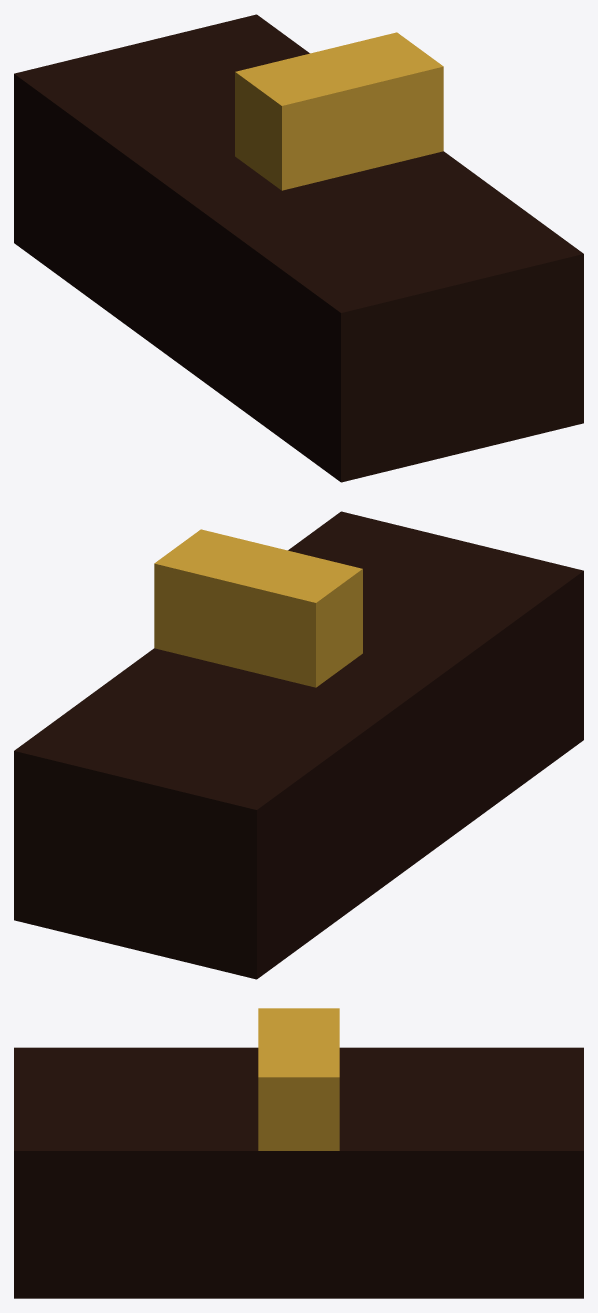
Rendered from leather_epic_boot_foot_L_lod1.glb.
The picture shows the model from 3 angles, top to bottom: view 1: azimuth 30°, elevation 25°; view 2: azimuth 150°, elevation 25°; view 3: azimuth 270°, elevation 25°; orthographic projection. The views are drawn at different scales.
Parts seen in each view (by area): view 1: leather_epic_boot_foot_L_lod1; view 2: leather_epic_boot_foot_L_lod1; view 3: leather_epic_boot_foot_L_lod1.
Part boxes in pixels (x1,y1,x2,y2): leather_epic_boot_foot_L_lod1: (14,14,583,482); leather_epic_boot_foot_L_lod1: (14,511,583,979); leather_epic_boot_foot_L_lod1: (14,1008,583,1298).
Bounding box in the file's own units: 0.144 × 0.144 × 0.336.
